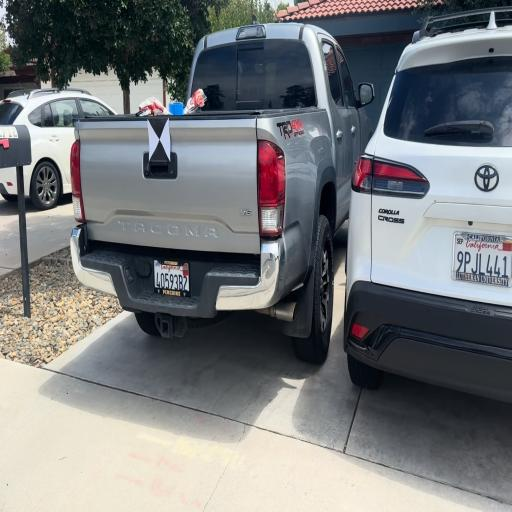target: (148, 119, 170, 161)
